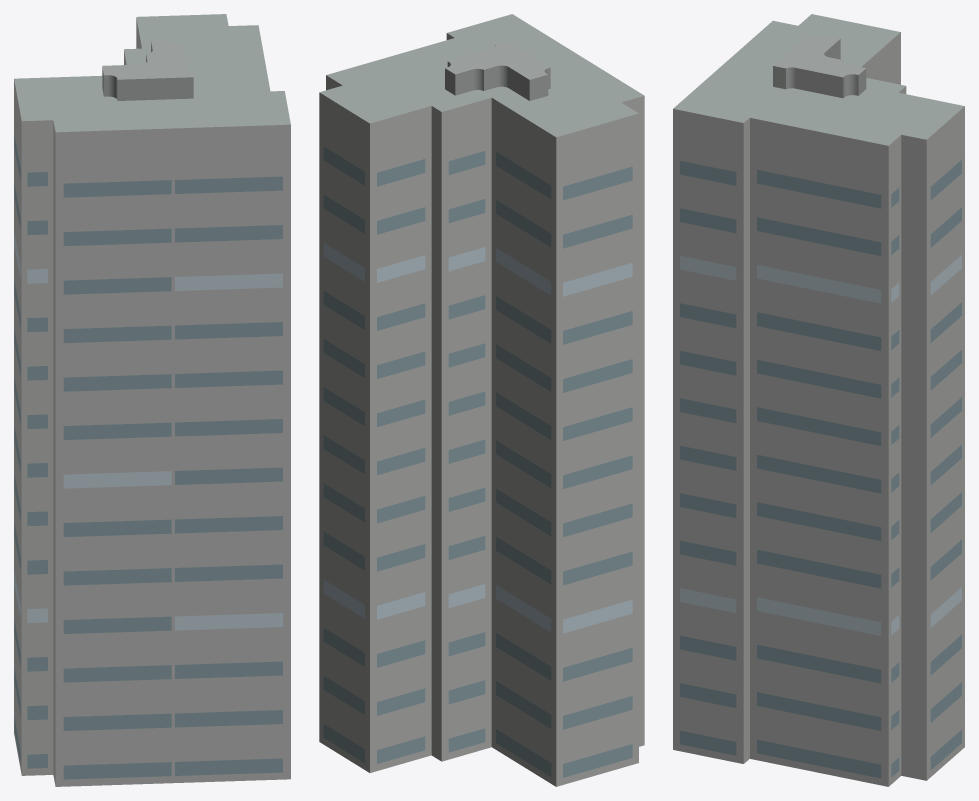
File: fallback-banpo-xi-106.glb
3 renders of one model, left to right at view 1: azimuth 30°, elevation 25°; view 2: azimuth 150°, elevation 25°; view 3: azimuth 270°, elevation 25°, orthographic. The views are drawn at different scales.
Parts seen in each view (by area): view 1: fallback-banpo-xi-106; view 2: fallback-banpo-xi-106; view 3: fallback-banpo-xi-106.
Part boxes in pixels (<box>): fallback-banpo-xi-106: <box>14,14,290,786</box>; fallback-banpo-xi-106: <box>319,14,644,786</box>; fallback-banpo-xi-106: <box>673,14,964,786</box>.
Size of the model in its own units: 32.48 by 76 by 30.38.
